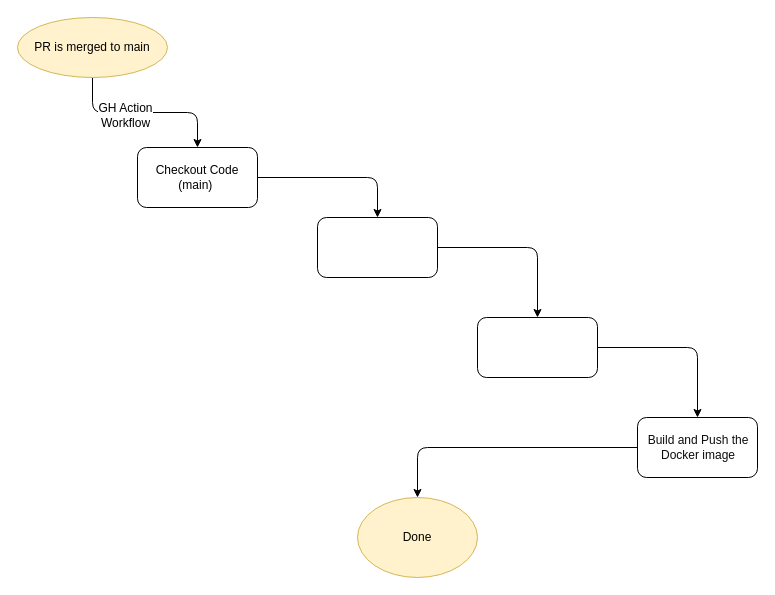
The diagram is 775 pixels wide and 595 high, and some of its shapes have lost their labels. Here are the shapes that lost their labels. From the top down, the centre of each, then its label:
point (377, 247): Login ghcr.io
point (537, 347): Exctract Docker metadata
